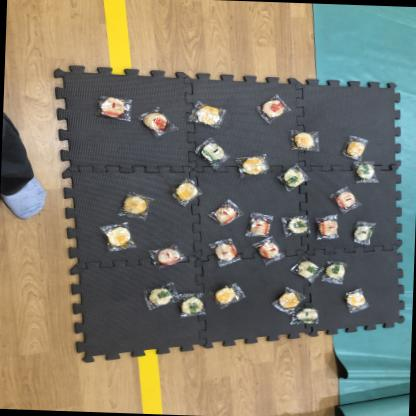green_setoshio: (194, 137, 232, 170), (140, 282, 180, 310), (276, 162, 310, 190), (292, 254, 324, 282), (350, 160, 384, 186), (176, 294, 208, 320), (351, 220, 380, 246), (323, 256, 348, 285), (291, 306, 321, 329), (283, 215, 310, 240)
red_setoshio: (136, 105, 178, 138), (95, 95, 136, 121), (150, 244, 190, 270), (210, 237, 244, 266), (257, 95, 290, 124), (210, 199, 244, 226), (253, 238, 285, 264), (330, 187, 362, 212), (248, 212, 276, 238), (315, 216, 342, 240)
yellow_setoshio: (115, 190, 156, 220), (98, 221, 136, 253), (186, 102, 228, 129), (169, 176, 204, 206), (211, 280, 245, 310), (236, 154, 272, 180), (290, 128, 324, 154), (342, 133, 370, 161), (273, 287, 302, 310), (344, 289, 370, 313)
